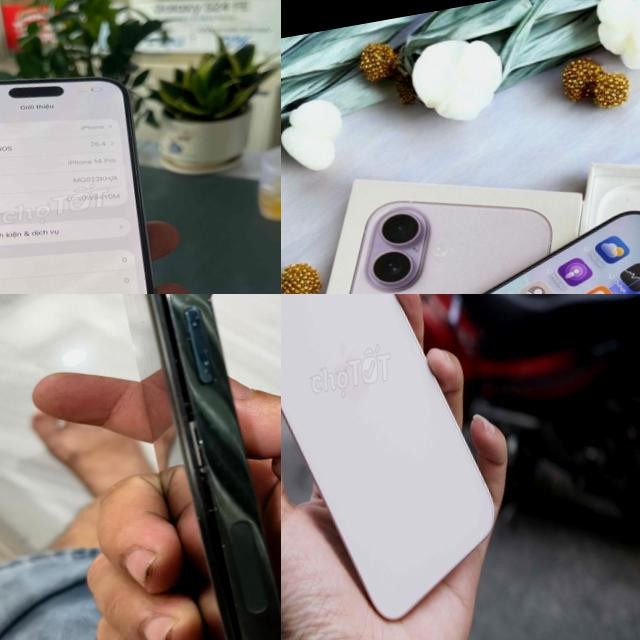gen_12_13: (81, 294, 281, 640)
gen_14: (0, 45, 188, 294)
gen_17: (281, 294, 523, 640)
